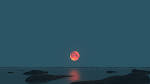moon: (68, 48, 81, 63)
